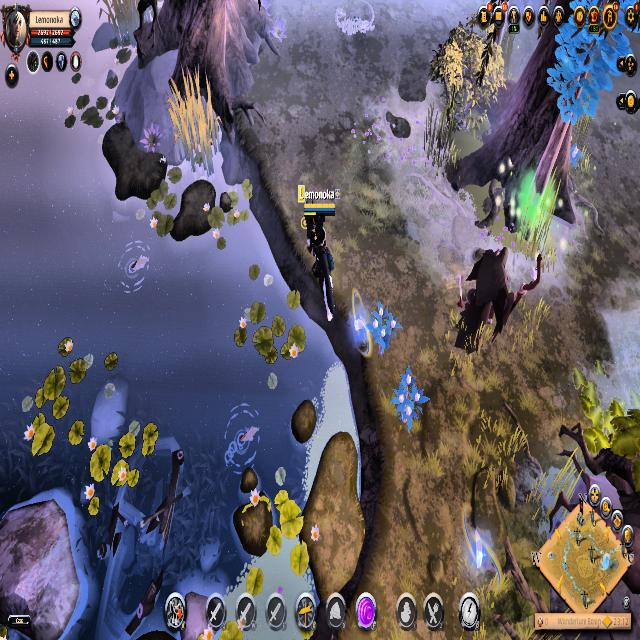fiber tier 4: (388, 368, 432, 437), (367, 299, 402, 362)
fish: (219, 395, 265, 477), (112, 236, 154, 298)
